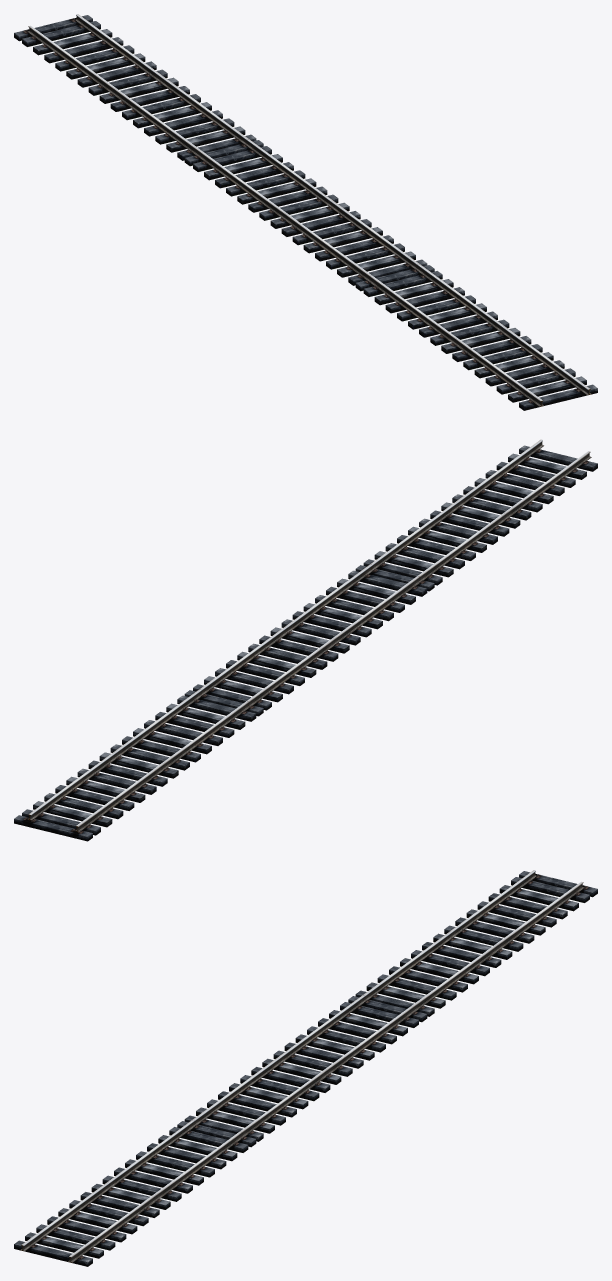
Rendered from rail.obj.
3 views of the same model, one above another, from view 1: azimuth 30°, elevation 25°; view 2: azimuth 150°, elevation 25°; view 3: azimuth 330°, elevation 25° (orthographic).
Visible parts, largest first — view 1: Sleppers, Reils, kreper; view 2: Sleppers, Reils, kreper; view 3: Sleppers, Reils, kreper.
Boxes of the visible parts, box(x1,y1,x2,y2) form: Sleppers: box(14, 15, 597, 410); Reils: box(28, 14, 591, 406); kreper: box(23, 18, 581, 403); Sleppers: box(14, 445, 597, 841); Reils: box(27, 439, 591, 831); kreper: box(23, 449, 588, 833); Sleppers: box(14, 871, 597, 1266); Reils: box(20, 870, 583, 1262); kreper: box(30, 874, 588, 1259).
Bounding box in the file's own units: 2500 × 330 × 30151.
